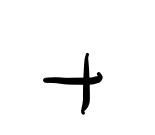plus: (43, 53, 103, 115)
